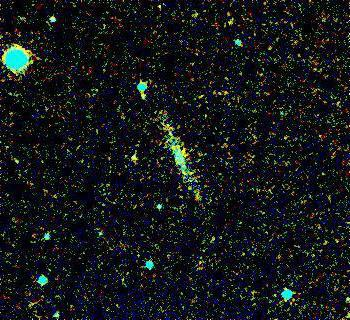star: (123, 144, 153, 174)
